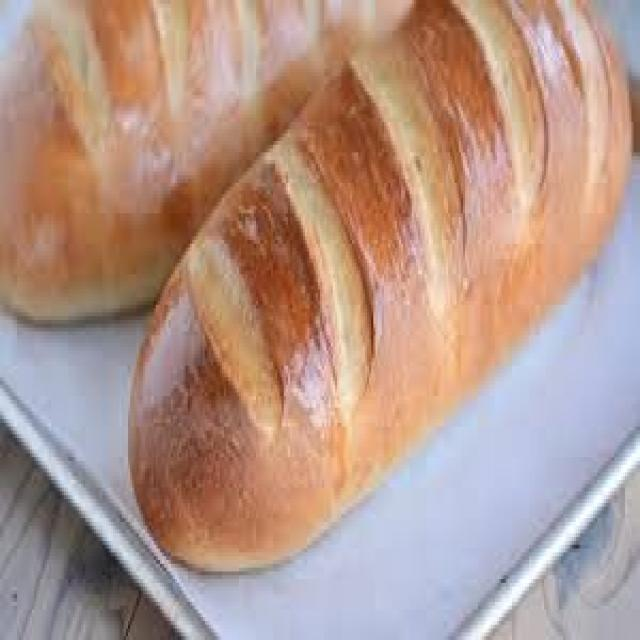organic waste: (126, 0, 631, 568), (0, 0, 429, 320)
